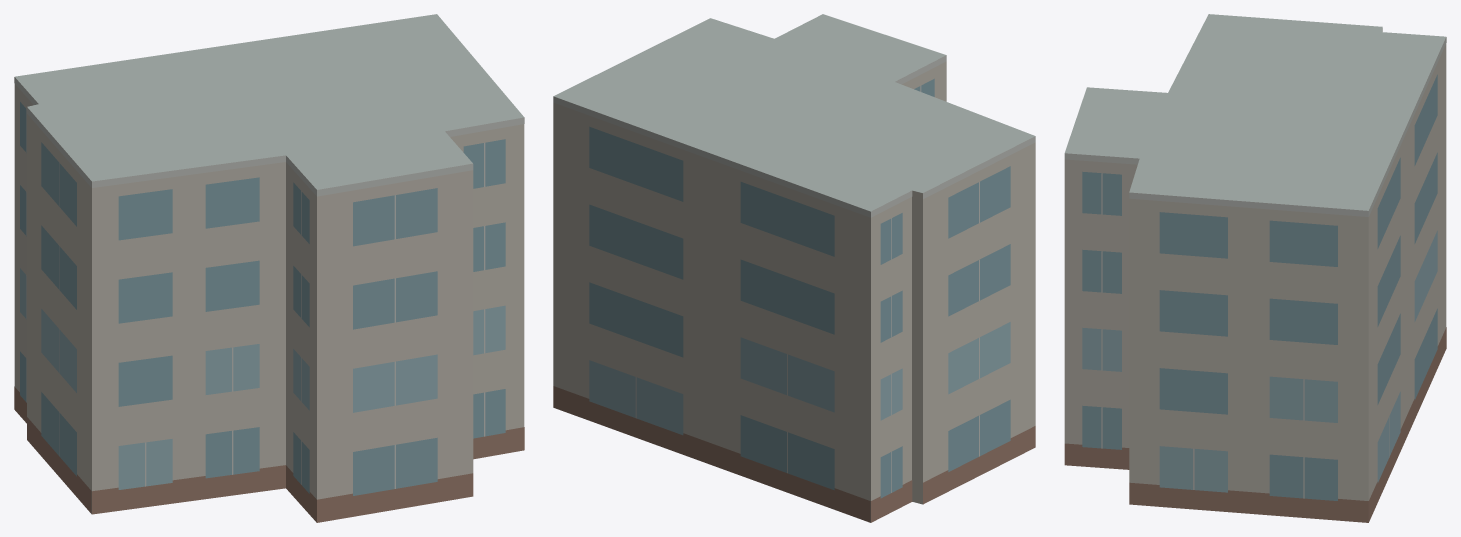
Rendered from survey-upis-32521349.glb.
3 views of the same model, side by side, from view 1: azimuth 30°, elevation 25°; view 2: azimuth 150°, elevation 25°; view 3: azimuth 270°, elevation 25° (orthographic). The views are drawn at different scales.
Parts seen in each view (by area): view 1: survey-upis-32521349.tmp; view 2: survey-upis-32521349.tmp; view 3: survey-upis-32521349.tmp.
Boxes of the visible parts, <box> form: survey-upis-32521349.tmp: <box>14,14,524,522</box>; survey-upis-32521349.tmp: <box>553,14,1035,522</box>; survey-upis-32521349.tmp: <box>1064,14,1446,522</box>.
Bounding box in the file's own units: 16.62 × 12.27 × 13.62.
